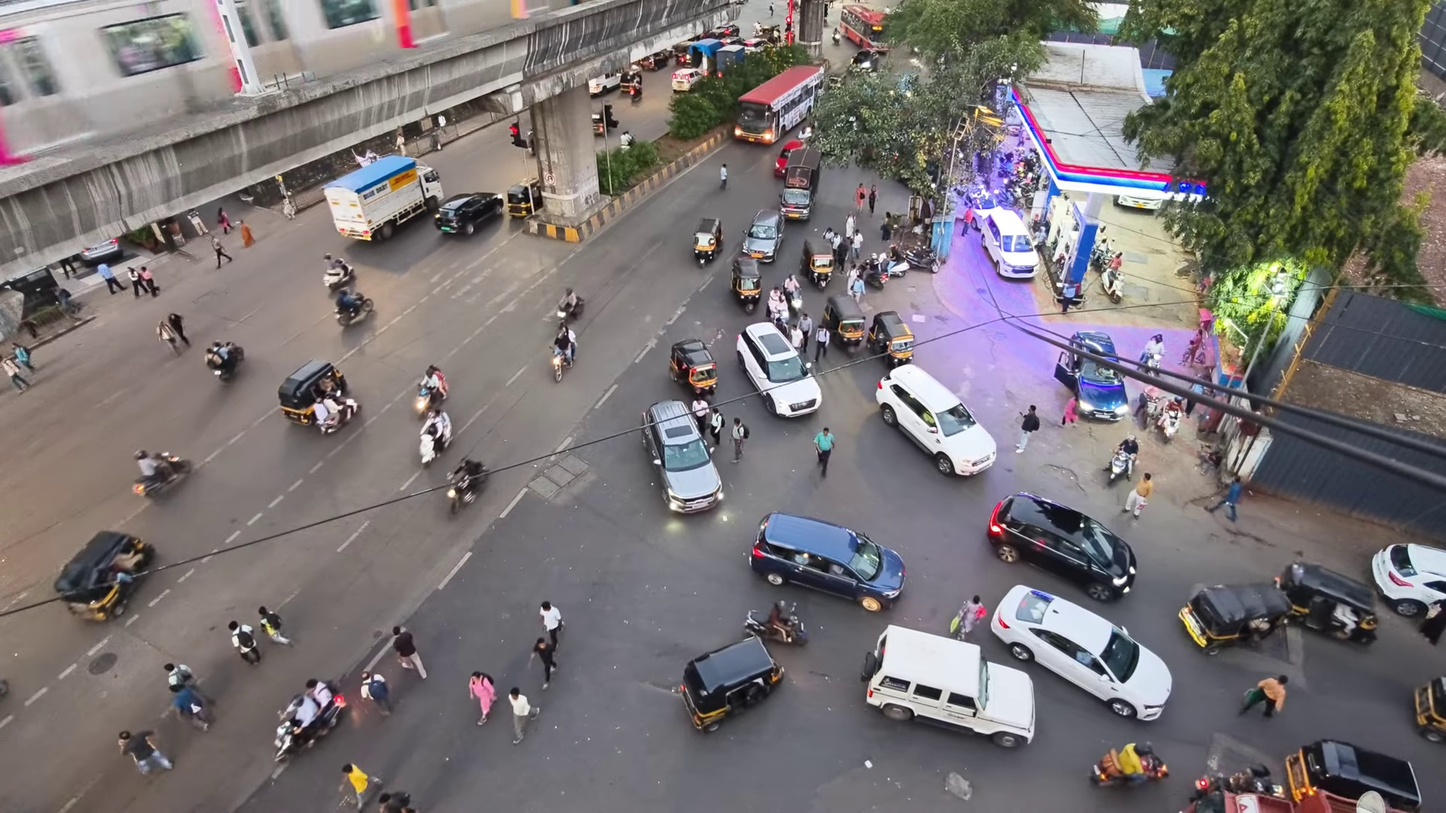driving: (990, 585, 1172, 720), (861, 625, 1035, 748), (749, 512, 905, 611), (325, 155, 444, 240), (734, 65, 824, 143), (779, 145, 821, 219), (434, 193, 505, 235), (839, 5, 887, 50)
walking: (119, 730, 172, 774), (1238, 675, 1288, 717), (164, 663, 213, 703), (169, 687, 211, 731), (392, 626, 426, 679), (508, 687, 539, 744), (340, 764, 380, 808), (1206, 477, 1242, 521), (951, 595, 986, 640), (468, 671, 495, 725), (529, 638, 557, 690), (228, 620, 261, 664), (359, 673, 391, 715), (258, 606, 292, 645), (1122, 473, 1152, 517), (1418, 599, 1445, 644), (539, 601, 564, 647), (1015, 405, 1039, 452), (813, 427, 834, 476), (868, 184, 886, 239), (0, 358, 29, 391), (97, 262, 125, 294), (157, 319, 181, 355), (166, 313, 190, 346), (731, 417, 748, 462), (377, 790, 411, 812), (211, 234, 232, 268), (12, 341, 35, 372), (691, 395, 710, 432), (709, 406, 725, 448), (798, 312, 813, 355), (814, 324, 829, 364), (139, 266, 158, 297), (127, 266, 145, 298), (1061, 396, 1077, 425), (238, 221, 254, 247), (59, 255, 76, 278), (850, 276, 864, 303), (880, 213, 892, 244), (217, 207, 231, 233), (282, 195, 296, 220), (855, 183, 867, 212), (844, 213, 856, 242), (851, 231, 862, 261), (719, 163, 728, 190)
